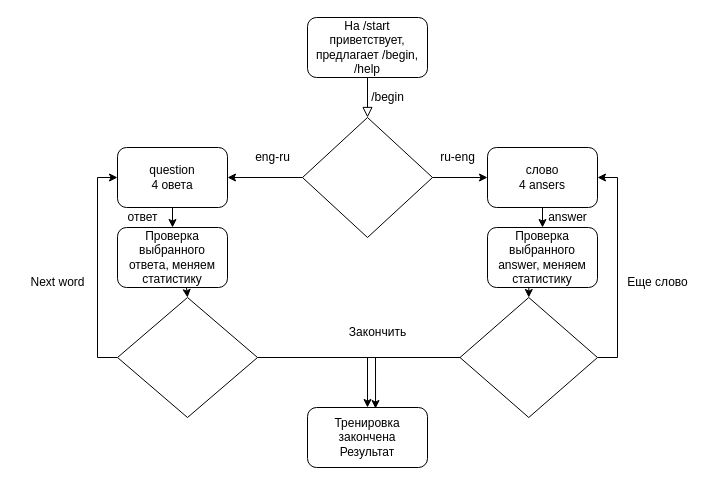
This 714x485 diagram has some shape labels left out. Each missing label, with the box of its shape:
Next word|Cancel: (116, 296, 258, 418)
Выберите направление перевода: (302, 116, 432, 238)
Еще слово|Закончить: (459, 296, 598, 418)
